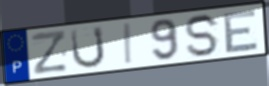9: (149, 17, 181, 62)
E: (222, 8, 260, 55)
I: (124, 21, 134, 66)
S: (184, 13, 221, 59)
U: (69, 24, 107, 70)
Z: (30, 29, 70, 77)
